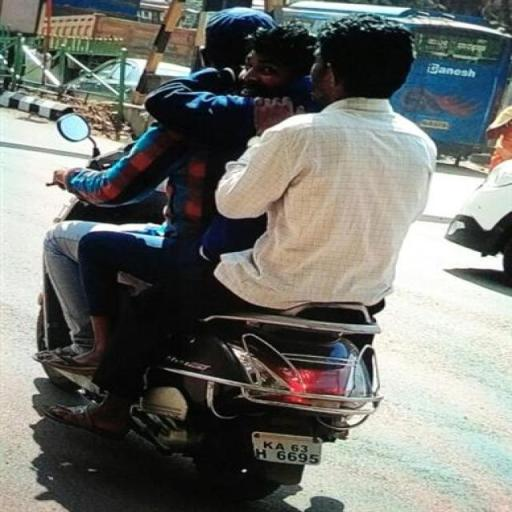tripple riding: (44, 7, 472, 303)
